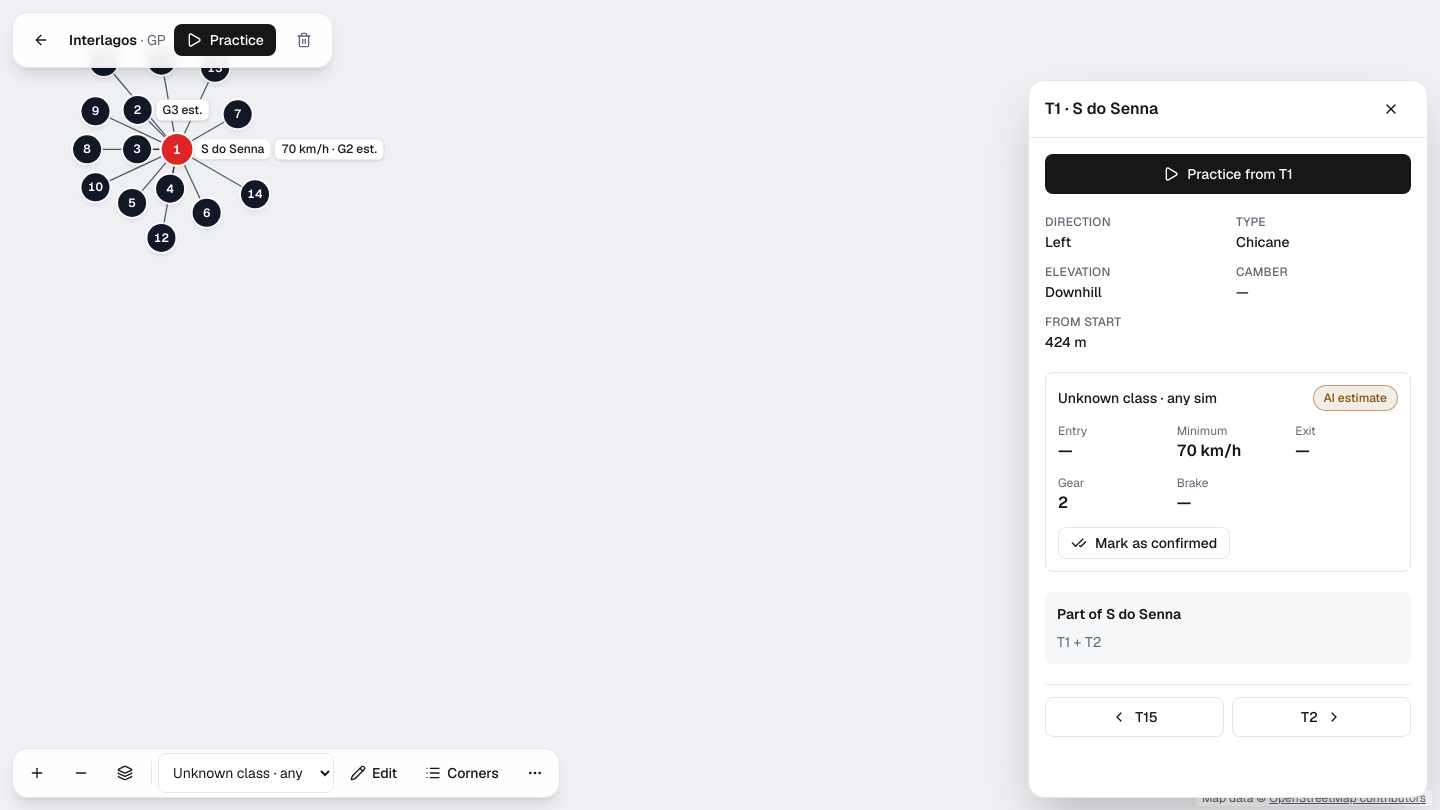
Scenario: Confirming estimates › marks one corner's AI values as confirmed, keeping the numbers
This screenshot has width=1440, height=810.
Click the button "Mark as confirmed" at (1144, 543), box [1058,527,1230,559]
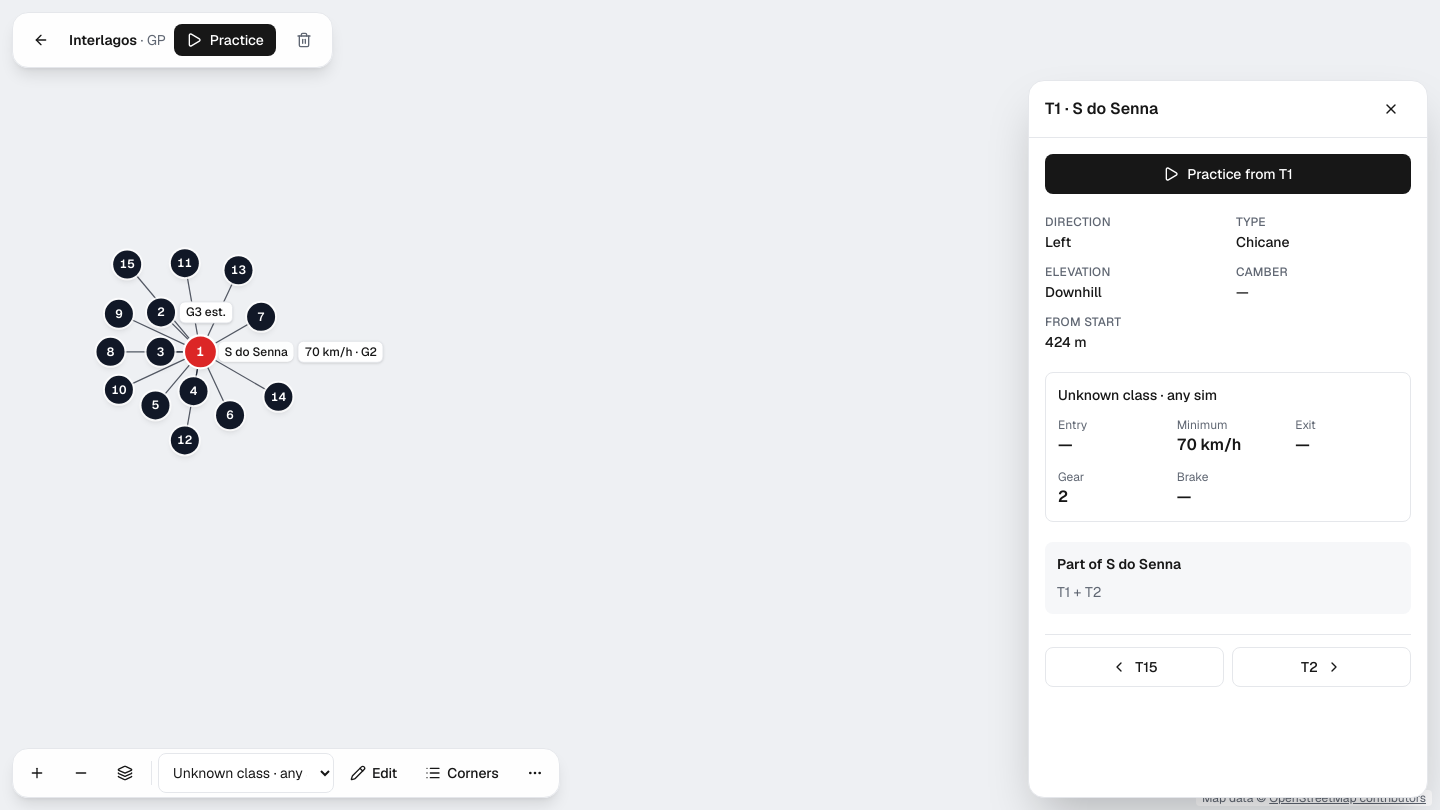
Check: the button "Mark as confirmed" is gone
Check: the text "AI estimate" is gone
